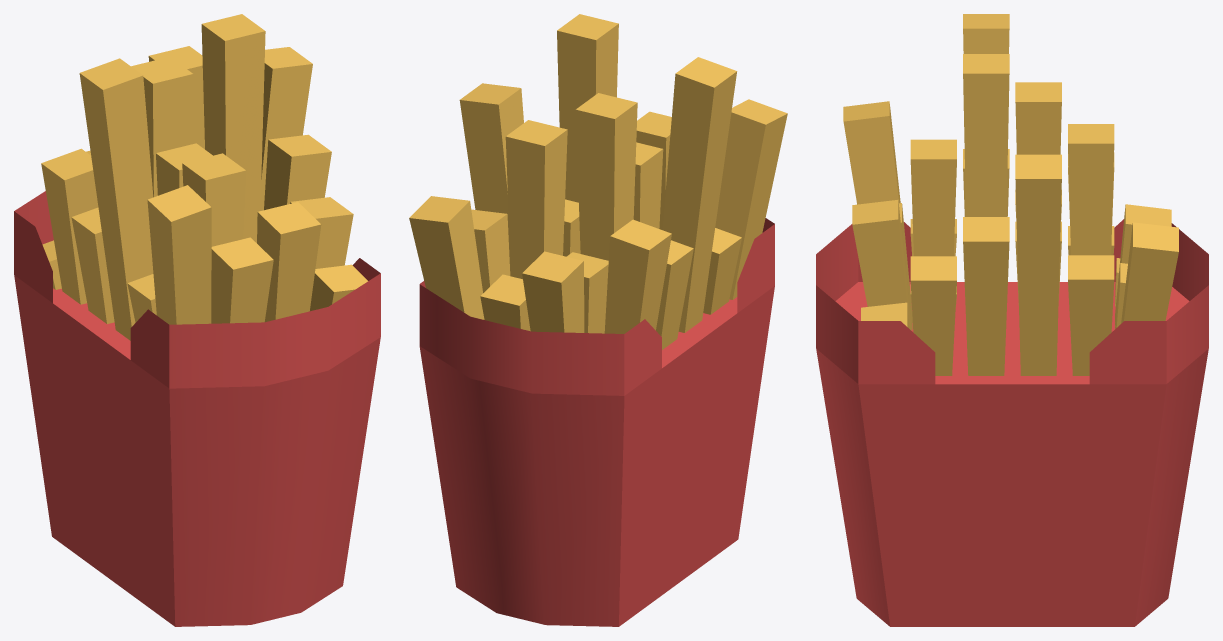
The model's file is fries.gltf.
The picture shows the model from 3 angles, left to right: view 1: azimuth 30°, elevation 25°; view 2: azimuth 150°, elevation 25°; view 3: azimuth 270°, elevation 25°; orthographic projection. The views are drawn at different scales.
Parts seen in each view (by area): view 1: fries, fries.001; view 2: fries, fries.001; view 3: fries, fries.001.
Boxes of the visible parts, x1=… form: fries: x1=14, y1=191, x2=380, y2=626; fries.001: x1=41, y1=14, x2=367, y2=340; fries: x1=419, y1=218, x2=774, y2=626; fries.001: x1=409, y1=14, x2=787, y2=349; fries: x1=816, y1=219, x2=1208, y2=626; fries.001: x1=843, y1=14, x2=1178, y2=375.
Size of the model in its own units: 0.183 by 0.3977 by 0.2653.
